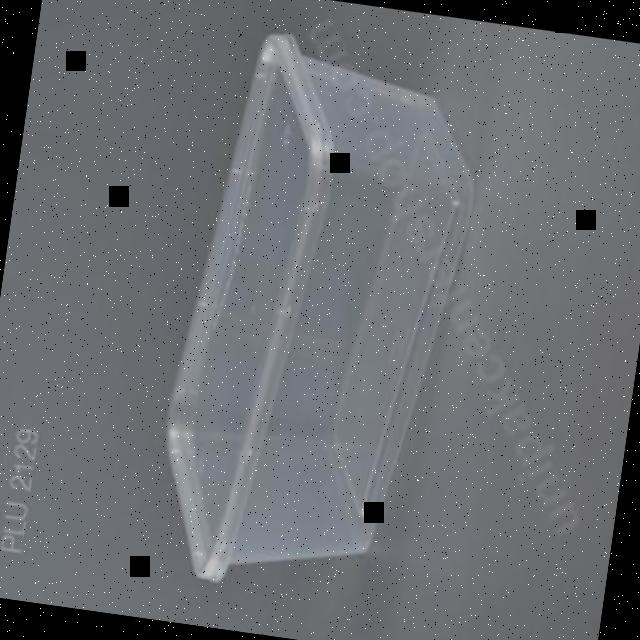plastic_box: (144, 21, 493, 607)
